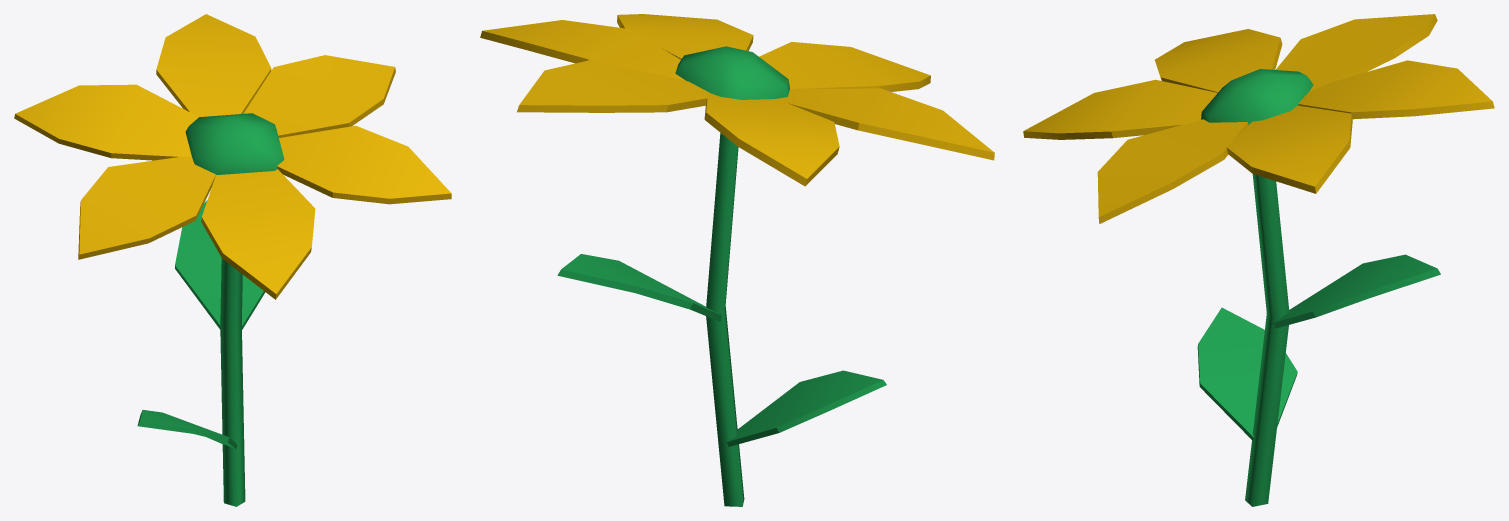
The model's file is SM_Flowers_02.fbx.
3 renders of one model, left to right at view 1: azimuth 30°, elevation 25°; view 2: azimuth 150°, elevation 25°; view 3: azimuth 270°, elevation 25°, orthographic. The views are drawn at different scales.
Visible parts, largest first — view 1: SM_Flowers_02; view 2: SM_Flowers_02; view 3: SM_Flowers_02.
Boxes of the visible parts, left/top/right/bottom form: SM_Flowers_02: left=14, top=14, right=451, bottom=506; SM_Flowers_02: left=480, top=14, right=994, bottom=506; SM_Flowers_02: left=1023, top=14, right=1494, bottom=506.
Bounding box in the file's own units: 29.94 × 30.09 × 28.93.
Materials: 1 (1 with a texture image).
